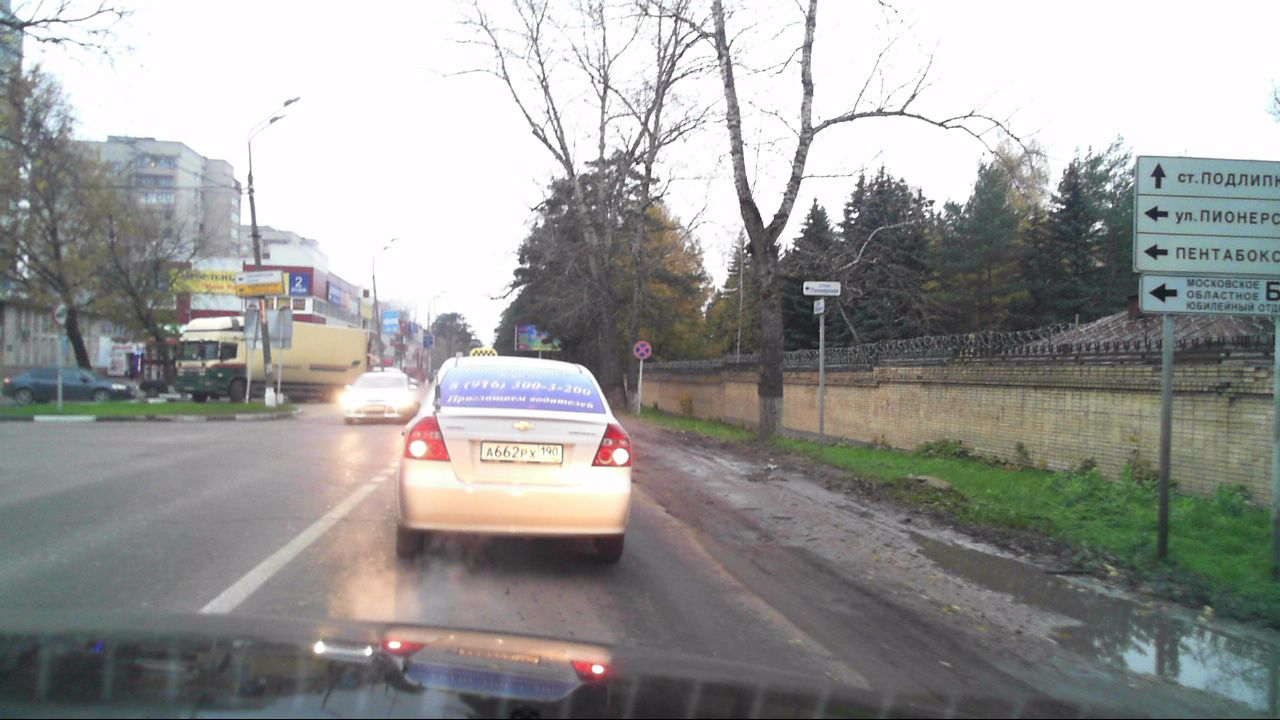No Parking: (633, 341, 651, 359)
